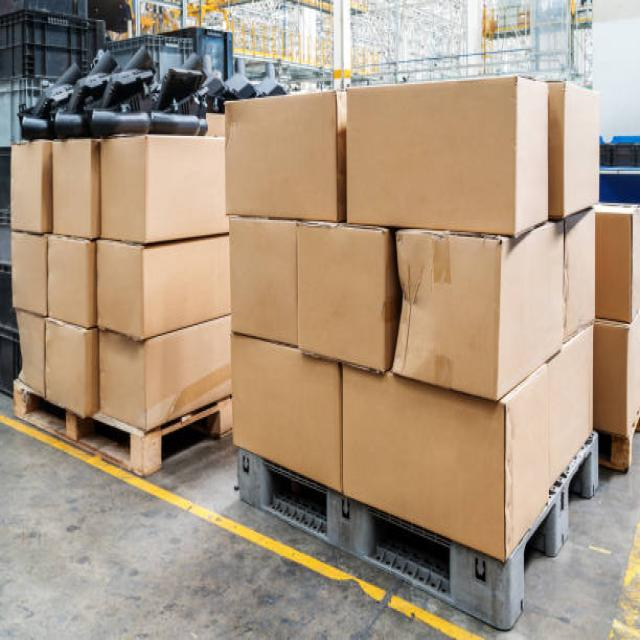Wooden-Pallets: (12, 377, 229, 475)
